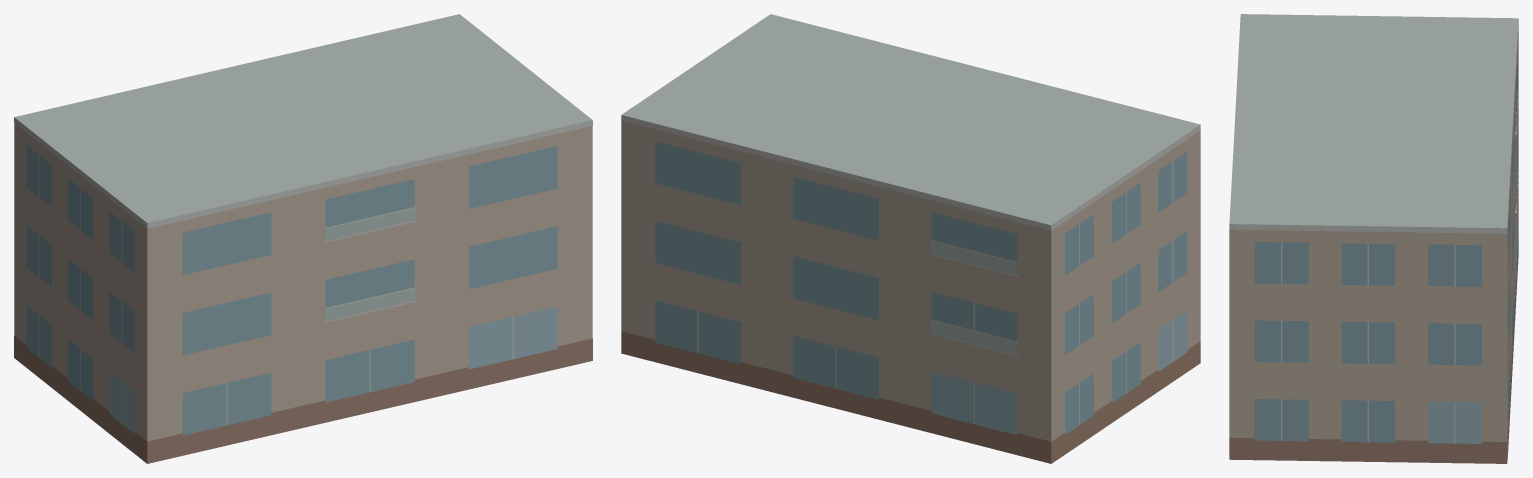
The model's file is survey-upis-32840270.glb.
3 views of the same model, side by side, from view 1: azimuth 30°, elevation 25°; view 2: azimuth 150°, elevation 25°; view 3: azimuth 270°, elevation 25° (orthographic). The views are drawn at different scales.
Visible parts, largest first — view 1: survey-upis-32840270.tmp; view 2: survey-upis-32840270.tmp; view 3: survey-upis-32840270.tmp.
Boxes of the visible parts, box(x1,y1,x2,y2) form: survey-upis-32840270.tmp: box(14, 14, 592, 463); survey-upis-32840270.tmp: box(621, 14, 1200, 463); survey-upis-32840270.tmp: box(1229, 14, 1518, 463).
Size of the model in its own units: 19.9 by 10.2 by 11.35.
